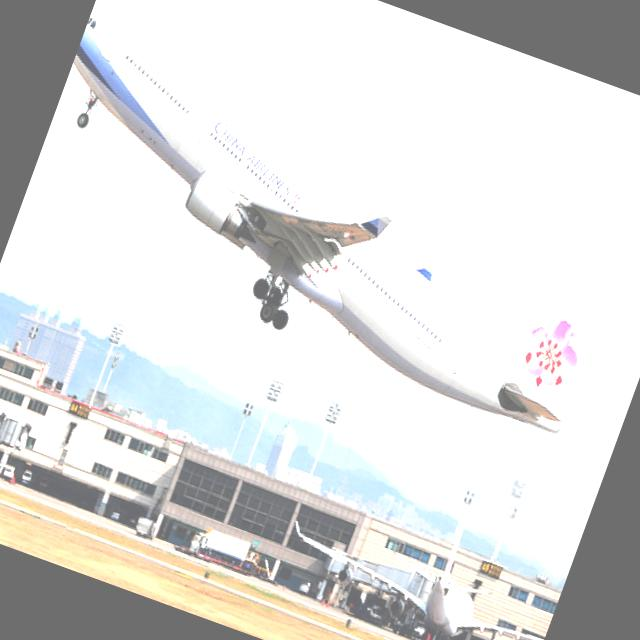Vehicle: (186, 522, 252, 574), (19, 469, 33, 487)
